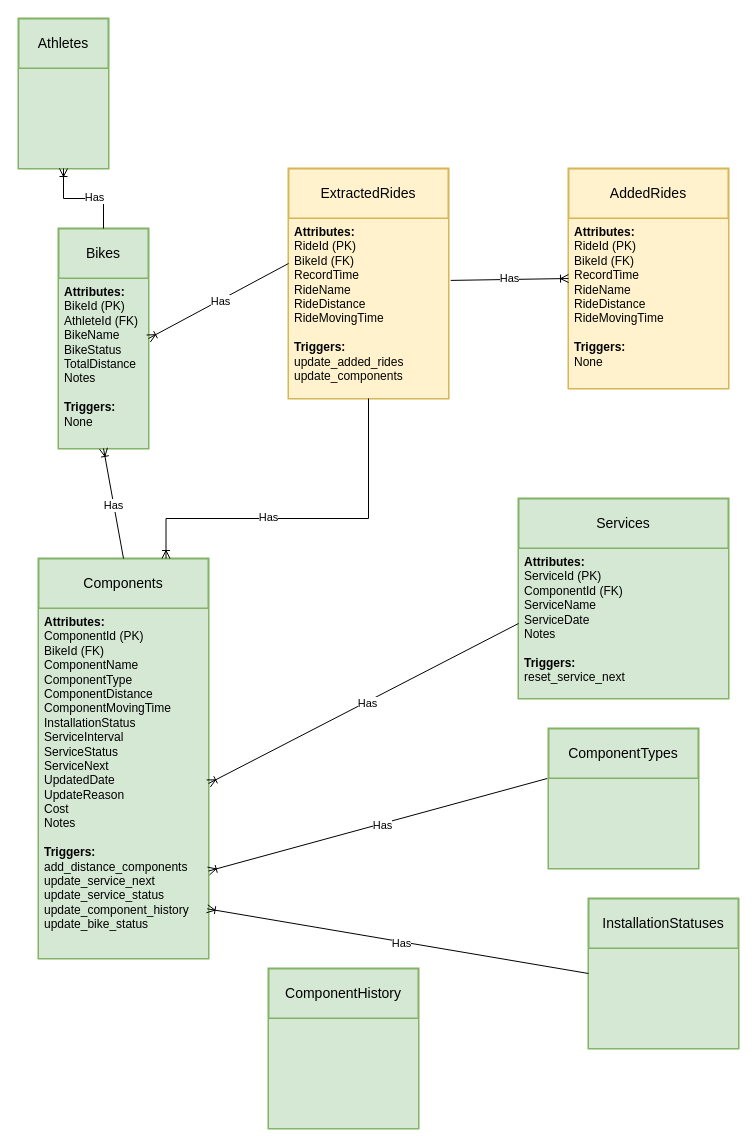
This 756x1146 diagram has some shape labels left out. Each missing label, with the centre of its shape:
Attributes: AthleteId (PK) AthleteName Triggers: None: (x=63, y=118)
Attributes: ComponentId (PK) UpdatedDate UpdateReason Triggers: None: (x=343, y=1073)
Attributes: ComponentType (PK) Triggers: None: (x=623, y=823)
Attributes: Statustype (PK) Triggers: None: (x=663, y=998)
